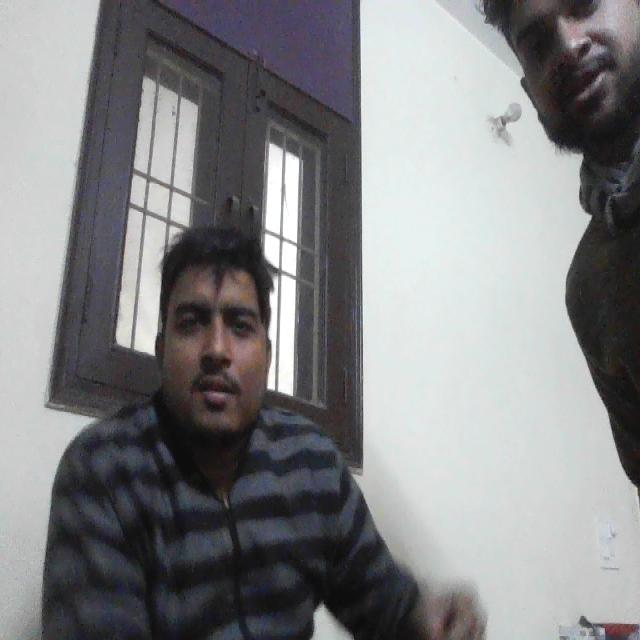real: (154, 208, 278, 443)
